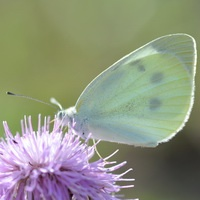insect: (60, 33, 196, 146)
